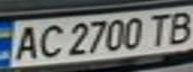0: (124, 13, 148, 51), (106, 16, 130, 53)
2: (66, 19, 90, 56)
7: (87, 17, 109, 55)
A: (6, 23, 42, 62)
B: (163, 8, 193, 45)
C: (33, 21, 66, 60)
T: (145, 11, 175, 47)
